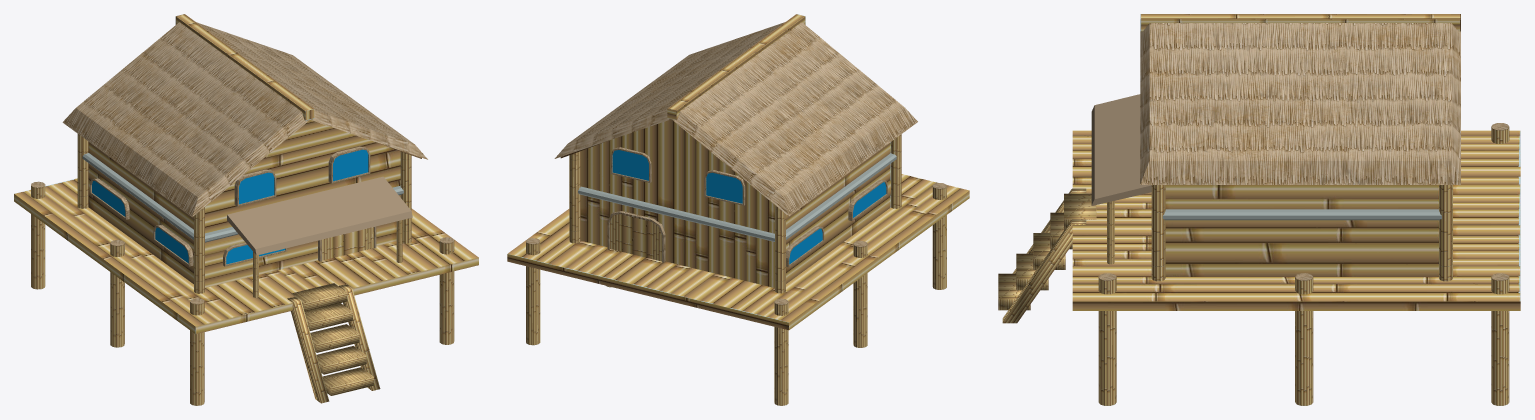
File: CajaCasa 3.5.fbx
The picture shows the model from 3 angles, left to right: view 1: azimuth 30°, elevation 25°; view 2: azimuth 150°, elevation 25°; view 3: azimuth 270°, elevation 25°; orthographic projection. The views are drawn at different scales.
Parts seen in each view (by area): view 1: Paja 1.007; view 2: Paja 1.007; view 3: Paja 1.007.
Boxes of the visible parts, left/top/right/bottom form: Paja 1.007: left=14, top=14, right=478, bottom=405; Paja 1.007: left=507, top=14, right=969, bottom=405; Paja 1.007: left=998, top=14, right=1520, bottom=405.
Bounding box in the file's own units: 955 × 813 × 1236.
35 materials, 28 textured.
